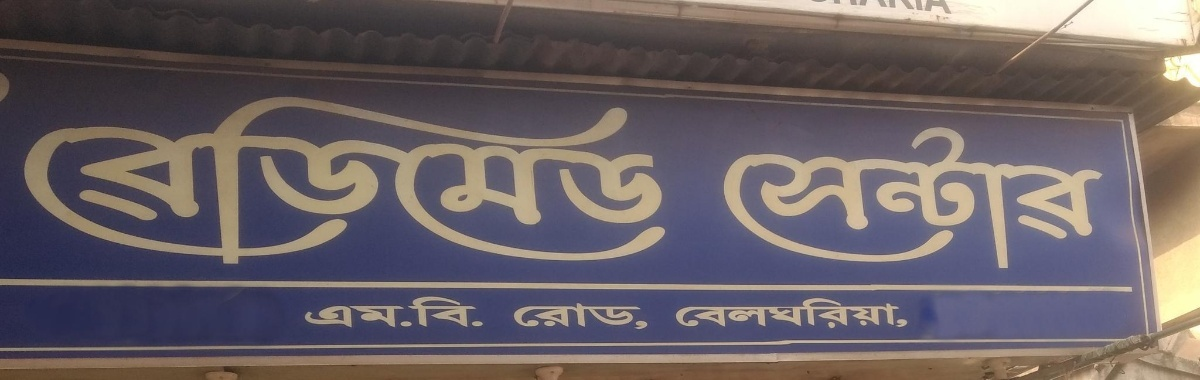text: (33, 91, 48, 271), (49, 91, 64, 271), (65, 91, 80, 271), (81, 91, 96, 271), (97, 91, 112, 271), (113, 91, 128, 271), (129, 91, 144, 271), (145, 91, 160, 271), (161, 91, 176, 271), (177, 91, 192, 271), (193, 91, 208, 271), (209, 91, 224, 271), (225, 91, 240, 271), (241, 91, 256, 271), (257, 91, 272, 271), (273, 91, 288, 271), (289, 91, 304, 271), (305, 91, 320, 271), (321, 91, 336, 271), (337, 91, 352, 271), (353, 91, 368, 271), (369, 91, 384, 271), (385, 91, 400, 271), (401, 91, 416, 271), (417, 91, 432, 271), (433, 91, 448, 271), (449, 91, 464, 271), (465, 91, 480, 271), (481, 91, 496, 271), (497, 91, 512, 271), (513, 91, 528, 271), (529, 91, 544, 271), (545, 91, 560, 271), (561, 91, 576, 271), (577, 91, 592, 271), (593, 91, 608, 271), (609, 91, 624, 271), (625, 91, 640, 271), (641, 91, 656, 271), (737, 122, 752, 272), (753, 122, 768, 272), (769, 122, 784, 272), (785, 122, 800, 272), (801, 122, 816, 272), (817, 122, 832, 272), (833, 122, 848, 272), (849, 122, 864, 272), (865, 122, 880, 272), (881, 122, 896, 272), (897, 122, 912, 272), (913, 122, 928, 272), (929, 122, 944, 272), (945, 122, 960, 272), (961, 122, 976, 272), (977, 122, 992, 272), (993, 122, 1008, 272), (1009, 122, 1024, 272), (1025, 122, 1040, 272), (1041, 122, 1056, 272), (1057, 122, 1072, 272), (1073, 122, 1088, 272), (1089, 122, 1104, 272), (657, 91, 668, 271), (723, 122, 736, 272), (23, 91, 32, 271), (897, 297, 913, 332), (513, 300, 528, 337), (529, 300, 544, 337), (545, 300, 560, 337), (561, 300, 576, 337), (577, 300, 592, 337), (593, 300, 608, 337), (609, 300, 624, 337), (625, 300, 640, 337), (673, 297, 688, 332), (689, 297, 704, 332), (705, 297, 720, 332), (721, 297, 736, 332), (737, 297, 752, 332), (753, 297, 768, 332), (769, 297, 784, 332), (785, 297, 800, 332), (801, 297, 816, 332), (817, 297, 832, 332), (833, 297, 848, 332), (849, 297, 864, 332), (865, 297, 880, 332), (881, 297, 896, 332), (305, 300, 320, 332), (321, 300, 336, 332), (337, 300, 352, 332), (353, 300, 368, 332), (369, 300, 384, 332), (385, 300, 400, 332), (401, 300, 416, 332), (417, 297, 432, 329), (433, 297, 448, 329), (449, 297, 464, 329), (465, 297, 480, 329), (402, 297, 416, 329), (641, 300, 653, 337), (1105, 122, 1107, 272), (481, 297, 485, 329), (302, 300, 304, 332), (511, 300, 512, 337)
